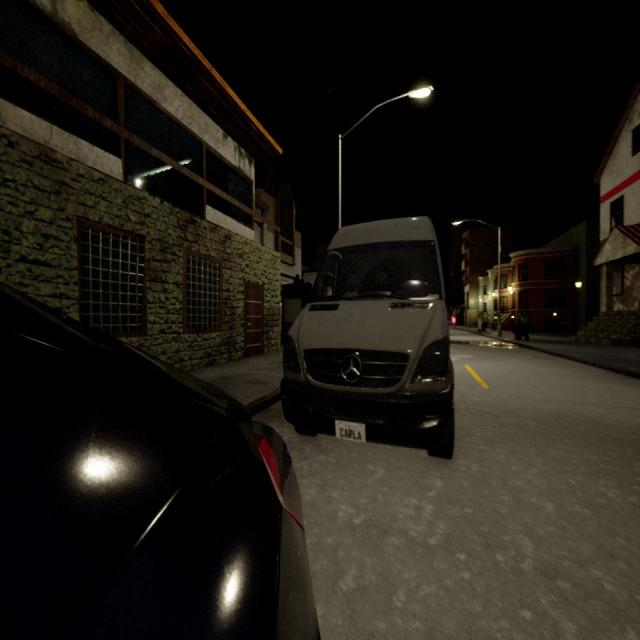Vehicle: (0, 284, 321, 640), (279, 218, 455, 458)
